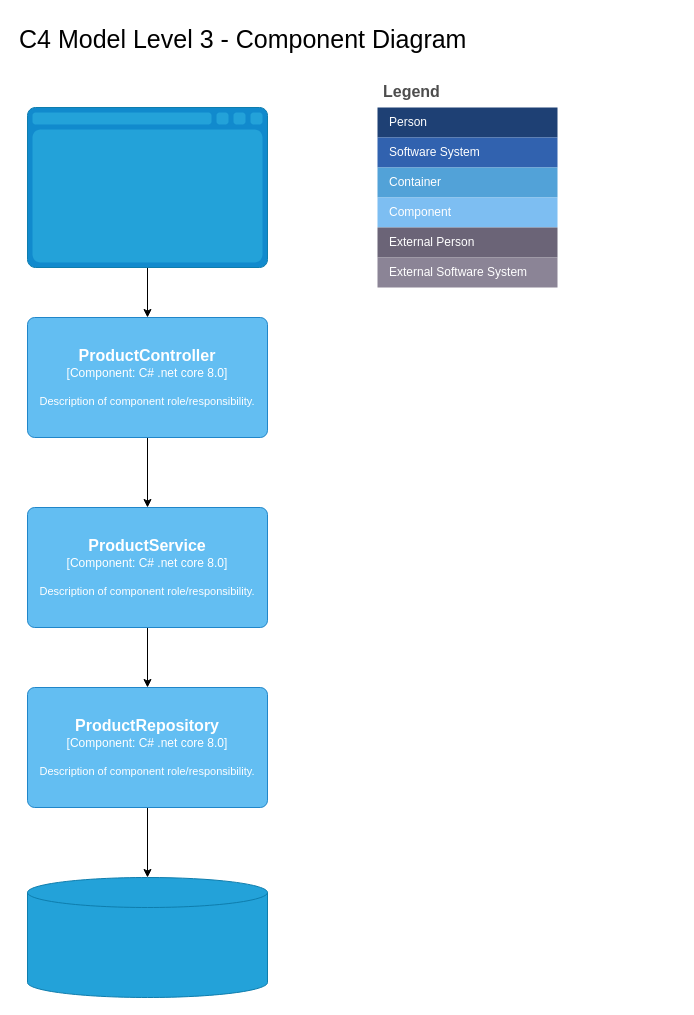
Some shapes in this 694 by 1015 pixel diagram are drawn without their labels. The shapes that lost their labels are listed below. From the top down, each one's centre as x and y in pixels, then its label:
At point 147,187: "webApiVendasOnline [Container: C# .net core 8.0] Container".
At point 147,937: "MongoDB [Container: MongoDB Atlas - Azure] Repositório de Dados da webApp".
